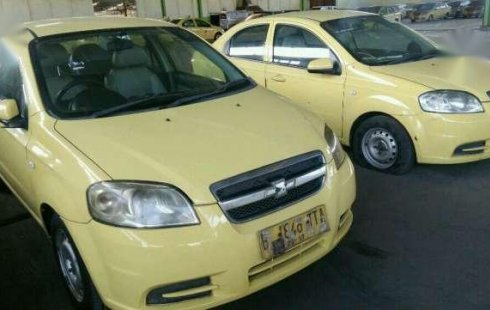plate: (260, 204, 329, 259)
